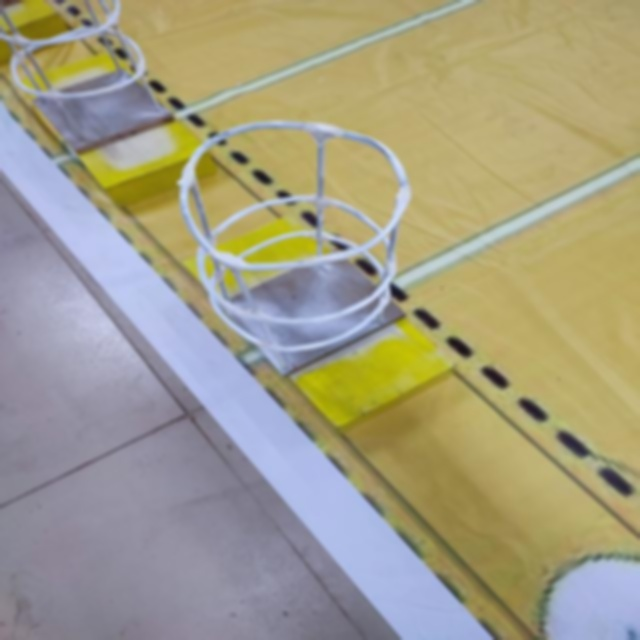silo: (172, 103, 438, 382)
